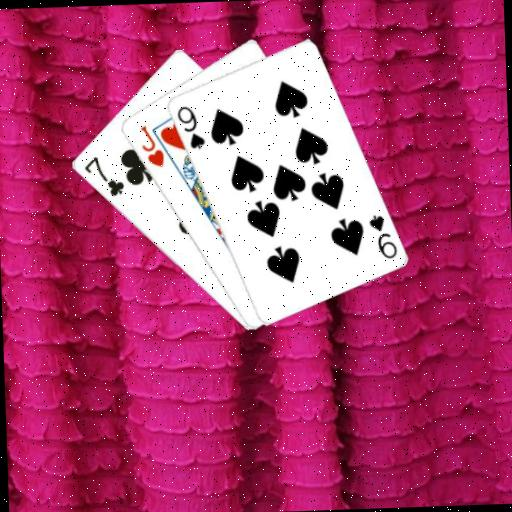7C: (79, 152, 126, 199)
9S: (173, 101, 207, 151), (365, 211, 399, 261)
JH: (136, 121, 165, 169)
